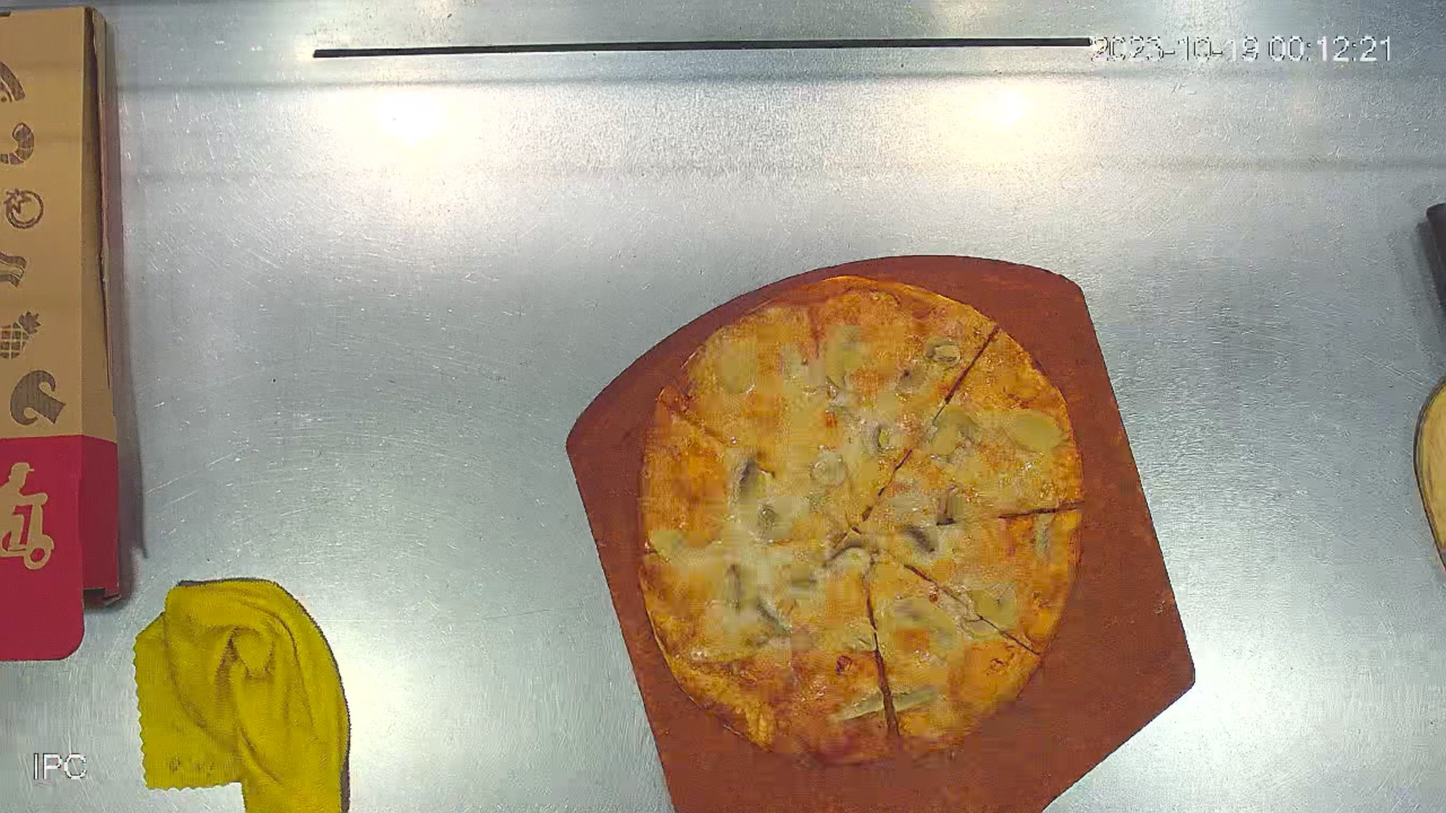hawaiian: (634, 259, 1099, 765)
